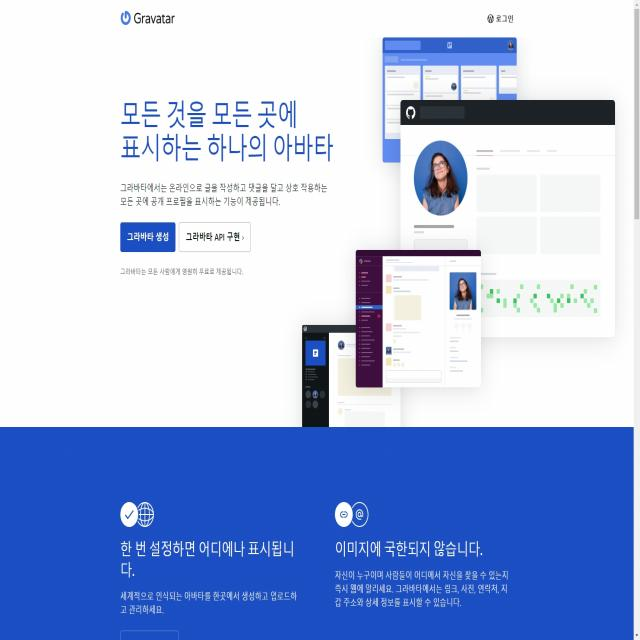menu-bar: (483, 10, 516, 27)
